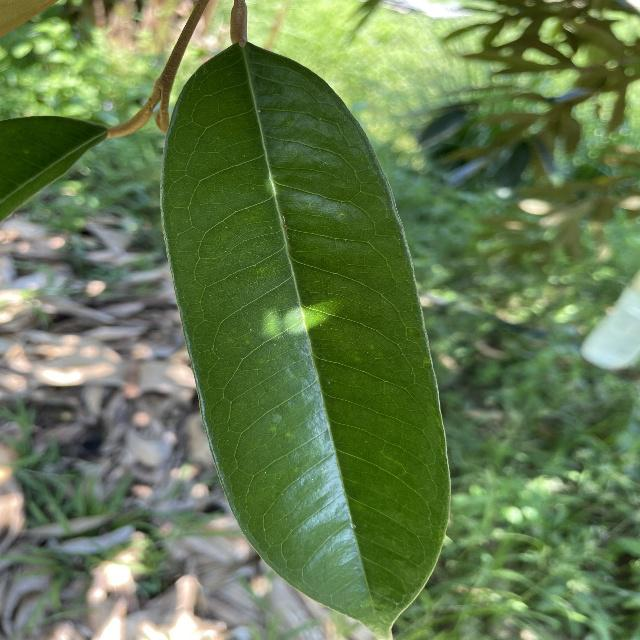No Disease: (151, 37, 459, 627)
